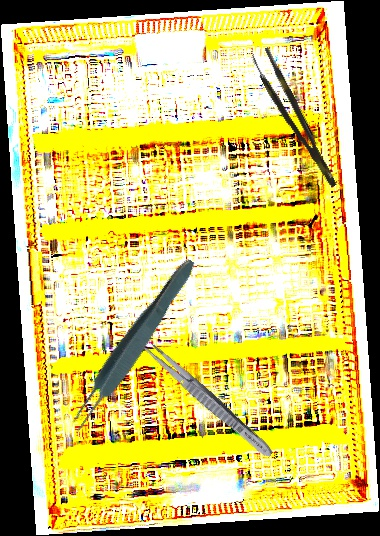Dressing Forceps: (136, 336, 278, 462)
Tissue Forceps: (61, 252, 203, 438), (249, 46, 339, 194)
